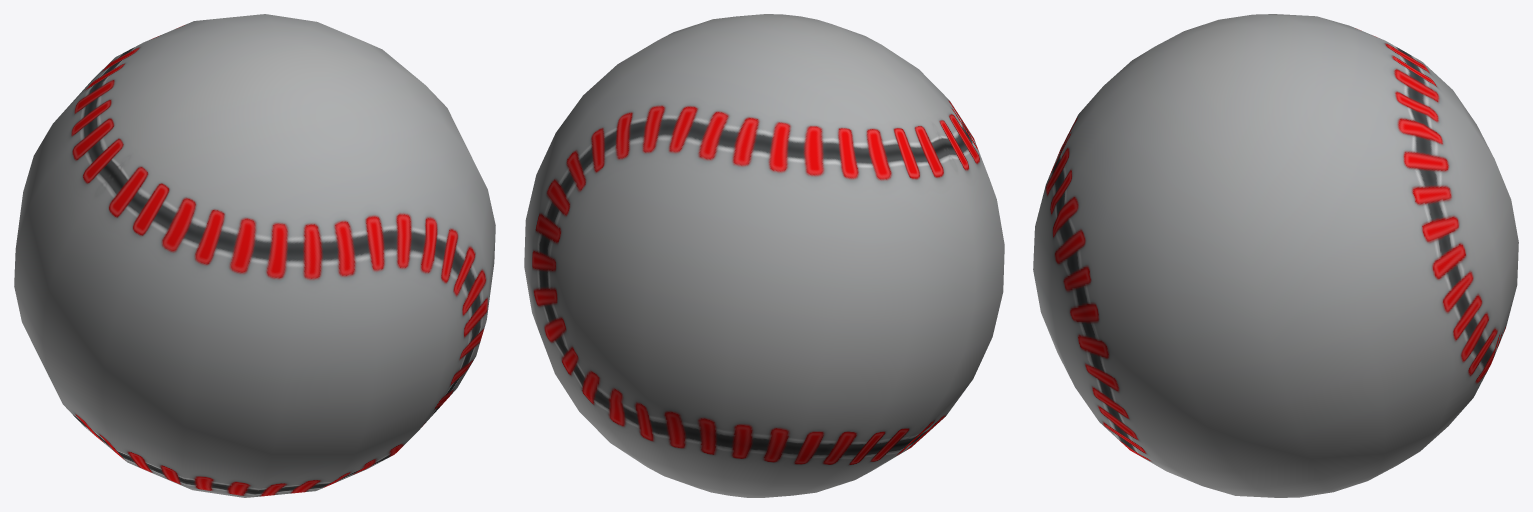
3 views of the same model, side by side, from view 1: azimuth 30°, elevation 25°; view 2: azimuth 150°, elevation 25°; view 3: azimuth 270°, elevation 25° (orthographic).
Parts seen in each view (by area): view 1: ball6; view 2: ball6; view 3: ball6.
Part boxes in pixels (left/top/right/bottom): ball6: left=14, top=14, right=495, bottom=497; ball6: left=524, top=14, right=1004, bottom=497; ball6: left=1033, top=14, right=1518, bottom=497.
Size of the model in its own units: 0.6071 by 0.6061 by 0.6061.
Materials: 1 (1 with a texture image).
